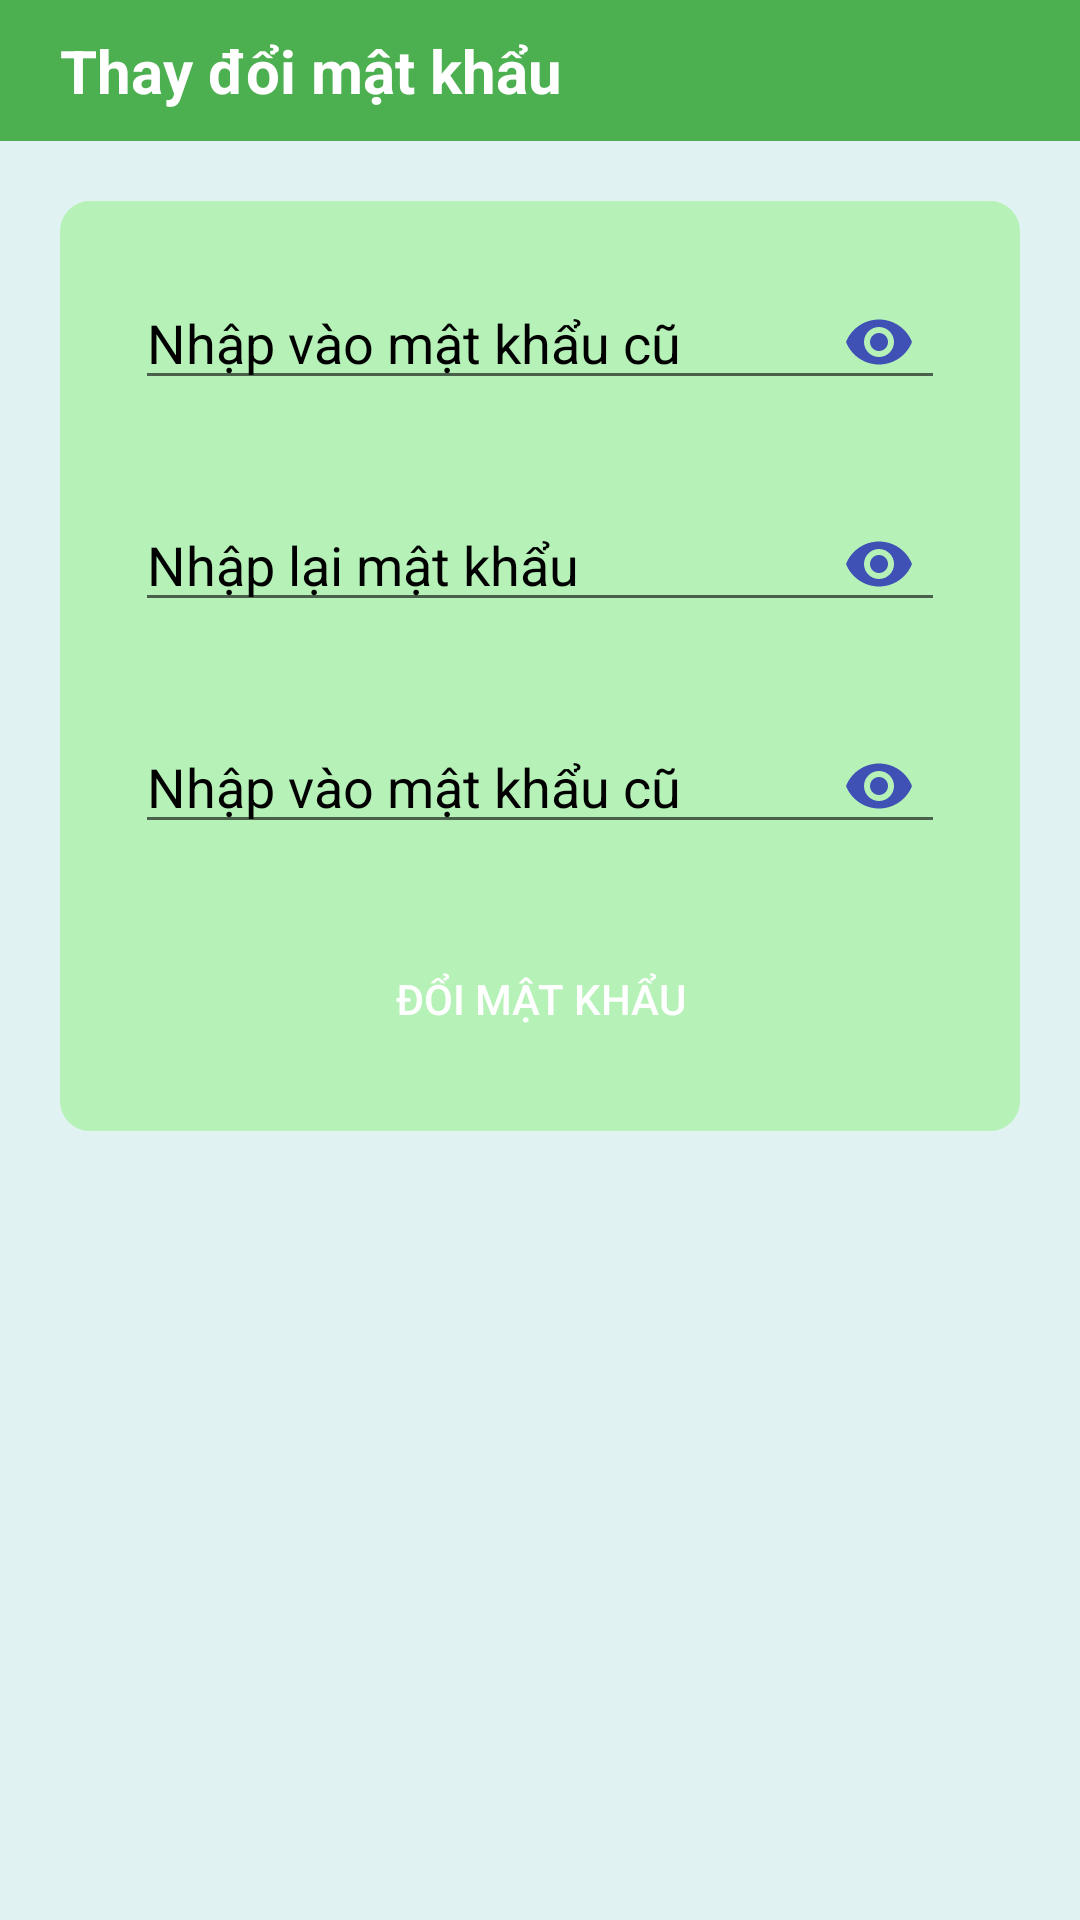

Screen size 1080 × 1920. Icon name, then its box in pixels as [x1=x1, y1=y1, x2=x2, y2=y2]:
visible: [x1=846, y1=319, x2=912, y2=365], [x1=846, y1=541, x2=912, y2=587], [x1=846, y1=763, x2=912, y2=809]
